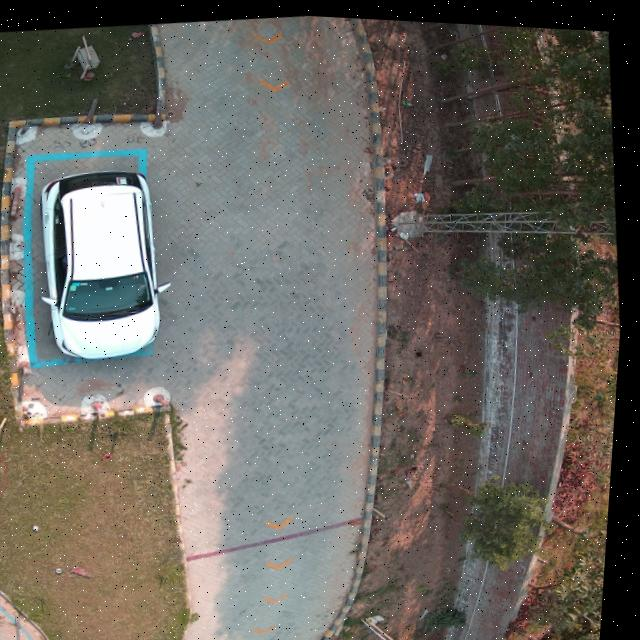car: (42, 169, 172, 358)
